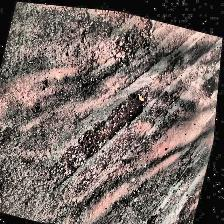pothole: (76, 74, 150, 168), (111, 9, 157, 65), (200, 70, 218, 96)
